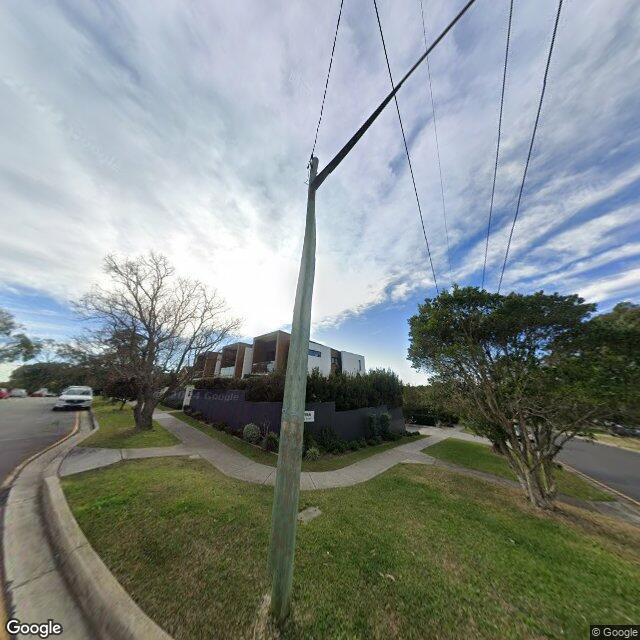streetlight: (310, 0, 475, 197)
timber-pole: (268, 157, 318, 619)
